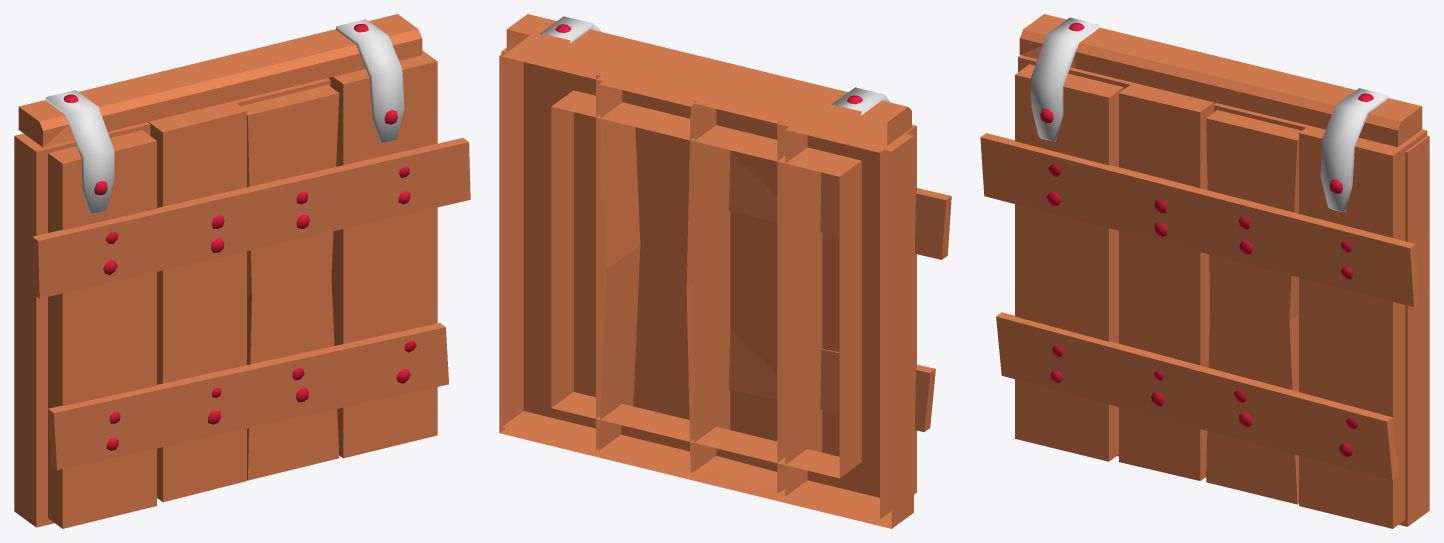
The model's file is Window_1_2.fbx.
The picture shows the model from 3 angles, left to right: view 1: azimuth 30°, elevation 25°; view 2: azimuth 150°, elevation 25°; view 3: azimuth 330°, elevation 25°; orthographic projection.
Visible parts, largest first — view 1: Window_1_2; view 2: Window_1_2; view 3: Window_1_2.
Part boxes in pixels (x1,y1,x2,y2): Window_1_2: (14,14,470,528); Window_1_2: (499,14,951,528); Window_1_2: (980,14,1429,528).
Size of the model in its own units: 0.7361 by 0.6666 by 0.1236.
